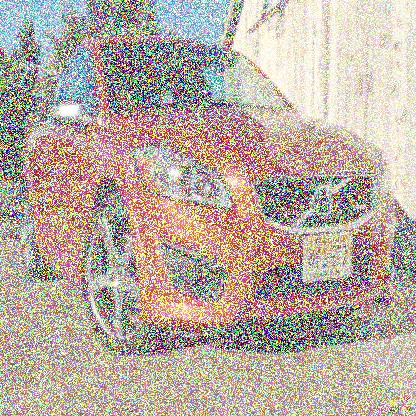Vehicle: (17, 34, 397, 352)
